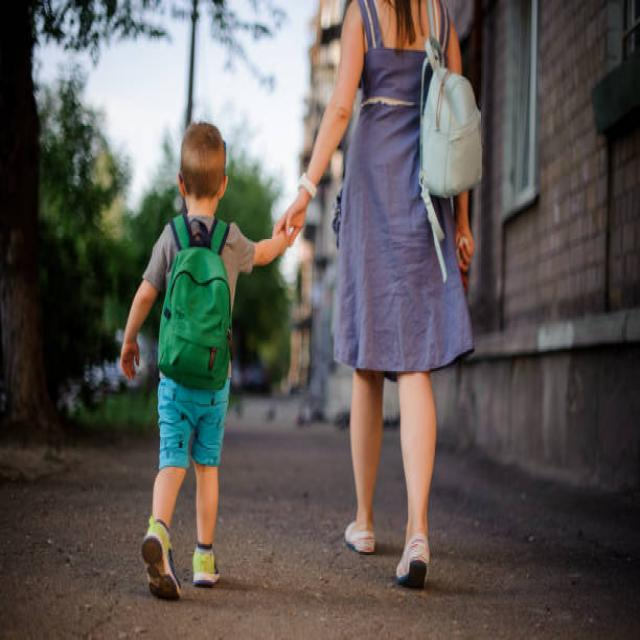Person: (274, 0, 482, 590), (120, 121, 291, 598)
